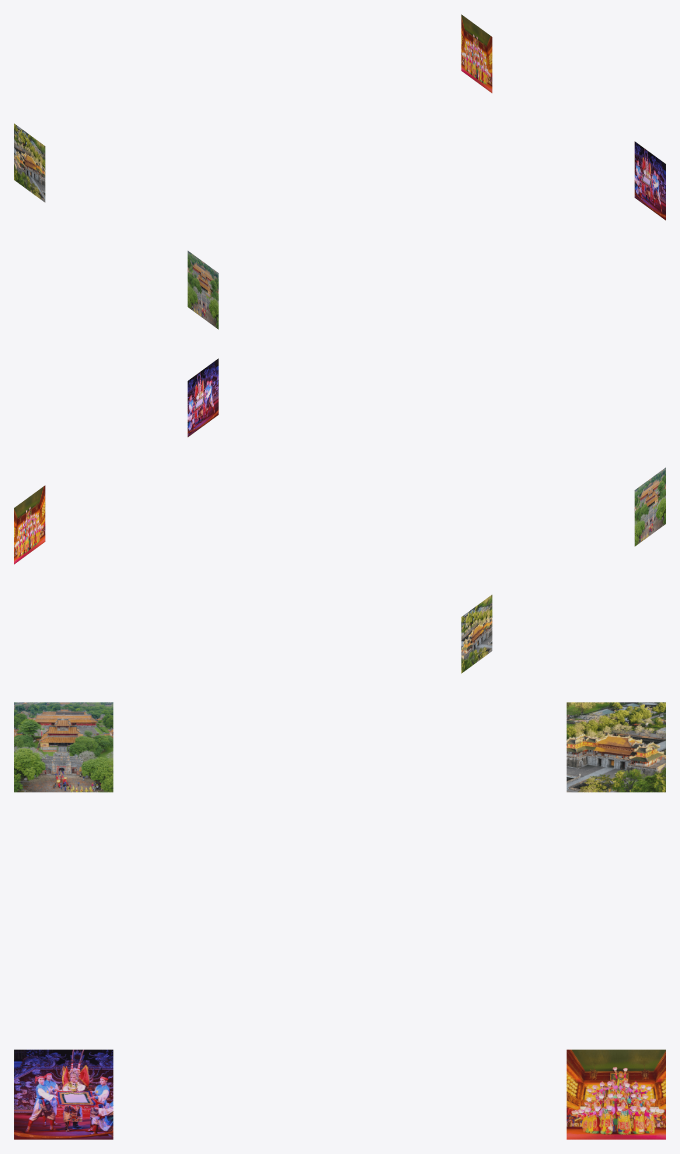
File: bonus img hue.glb
3 renders of one model, top to bottom at view 1: azimuth 30°, elevation 25°; view 2: azimuth 150°, elevation 25°; view 3: azimuth 270°, elevation 25°, orthographic. The views are drawn at different scales.
Visible parts, largest first — view 1: bonus_img; view 2: bonus_img; view 3: bonus_img.
Boxes of the visible parts, left/top/right/bottom form: bonus_img: left=14, top=14, right=665, bottom=329; bonus_img: left=14, top=358, right=665, bottom=673; bonus_img: left=14, top=702, right=665, bottom=1139.
Size of the model in its own units: 14.88 by 1.8 by 11.8.
1 material, 1 textured.
